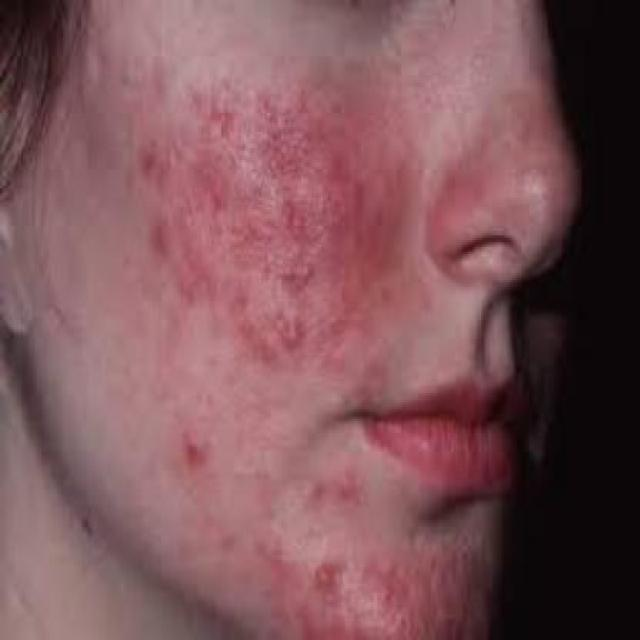papules: (177, 417, 217, 478), (266, 298, 306, 358), (306, 548, 345, 602), (276, 252, 318, 292)
